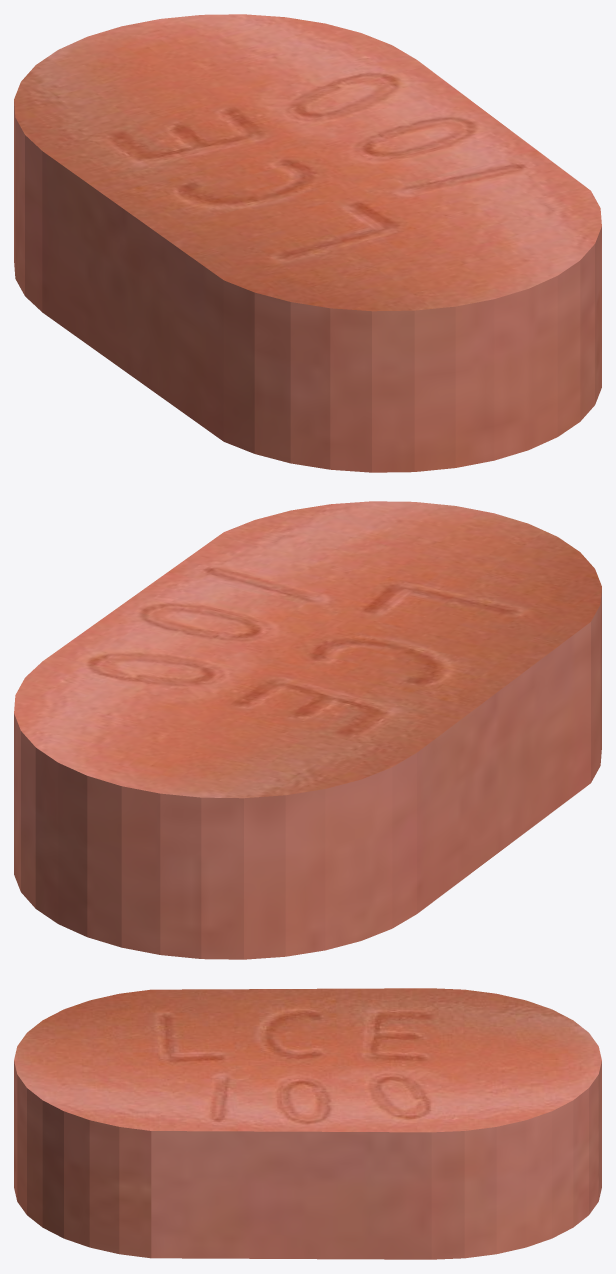
3 renders of one model, top to bottom at view 1: azimuth 30°, elevation 25°; view 2: azimuth 150°, elevation 25°; view 3: azimuth 270°, elevation 25°, orthographic. The views are drawn at different scales.
Visible parts, largest first — view 1: 圓柱體; view 2: 圓柱體; view 3: 圓柱體.
Part boxes in pixels (<box>): 圓柱體: <box>14,14,601,472</box>; 圓柱體: <box>14,501,601,959</box>; 圓柱體: <box>14,988,601,1259</box>.
Size of the model in its own units: 1.67 by 0.6888 by 2.88.
